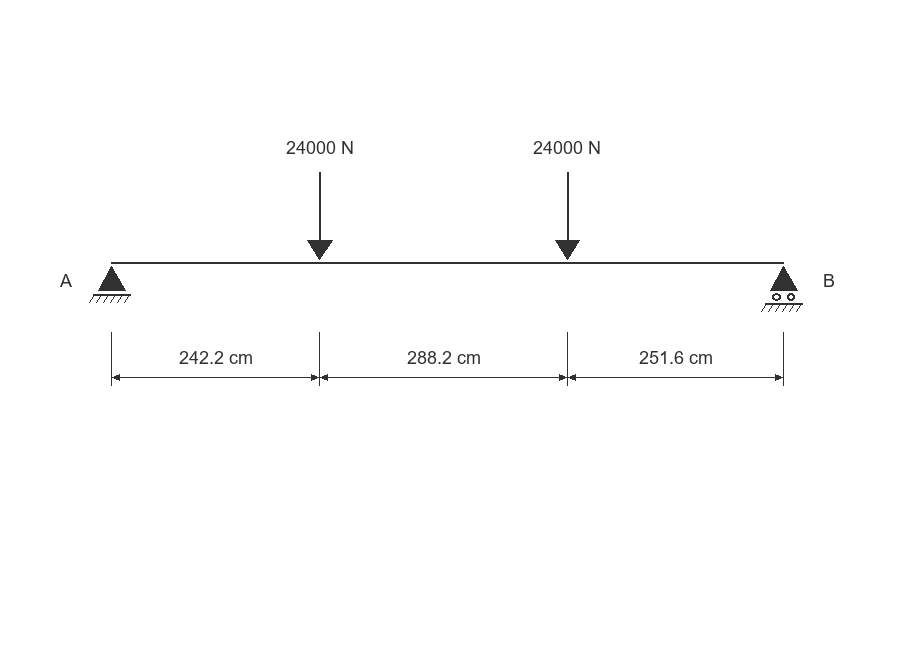pin_support: (89, 266, 131, 303)
point_load: (307, 172, 333, 260), (555, 172, 580, 260)
roller_support: (761, 266, 803, 312)
